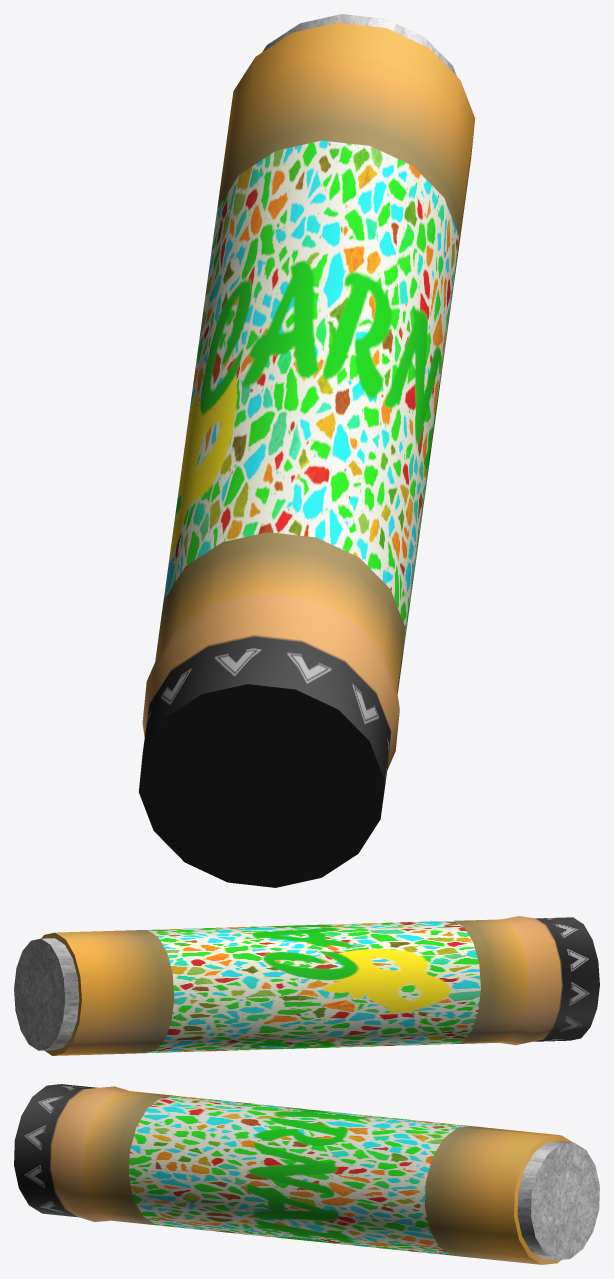
Rendered from Confete.fbx.
3 views of the same model, one above another, from view 1: azimuth 30°, elevation 25°; view 2: azimuth 150°, elevation 25°; view 3: azimuth 270°, elevation 25° (orthographic). The views are drawn at different scales.
Visible parts, largest first — view 1: Confete; view 2: Confete; view 3: Confete.
Part boxes in pixels (box(x1,y1,x2,y2)): Confete: box(139, 14, 475, 887); Confete: box(14, 916, 599, 1055); Confete: box(14, 1084, 599, 1264).
Bounding box in the file's own units: 76.86 × 39.23 × 98.84.
